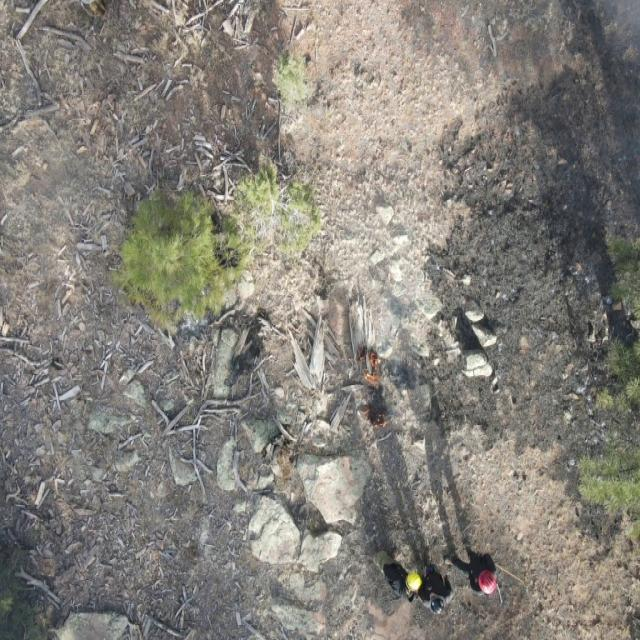fire: (595, 0, 640, 60), (354, 346, 384, 385), (358, 403, 390, 431)
smoke: (322, 212, 447, 398)
